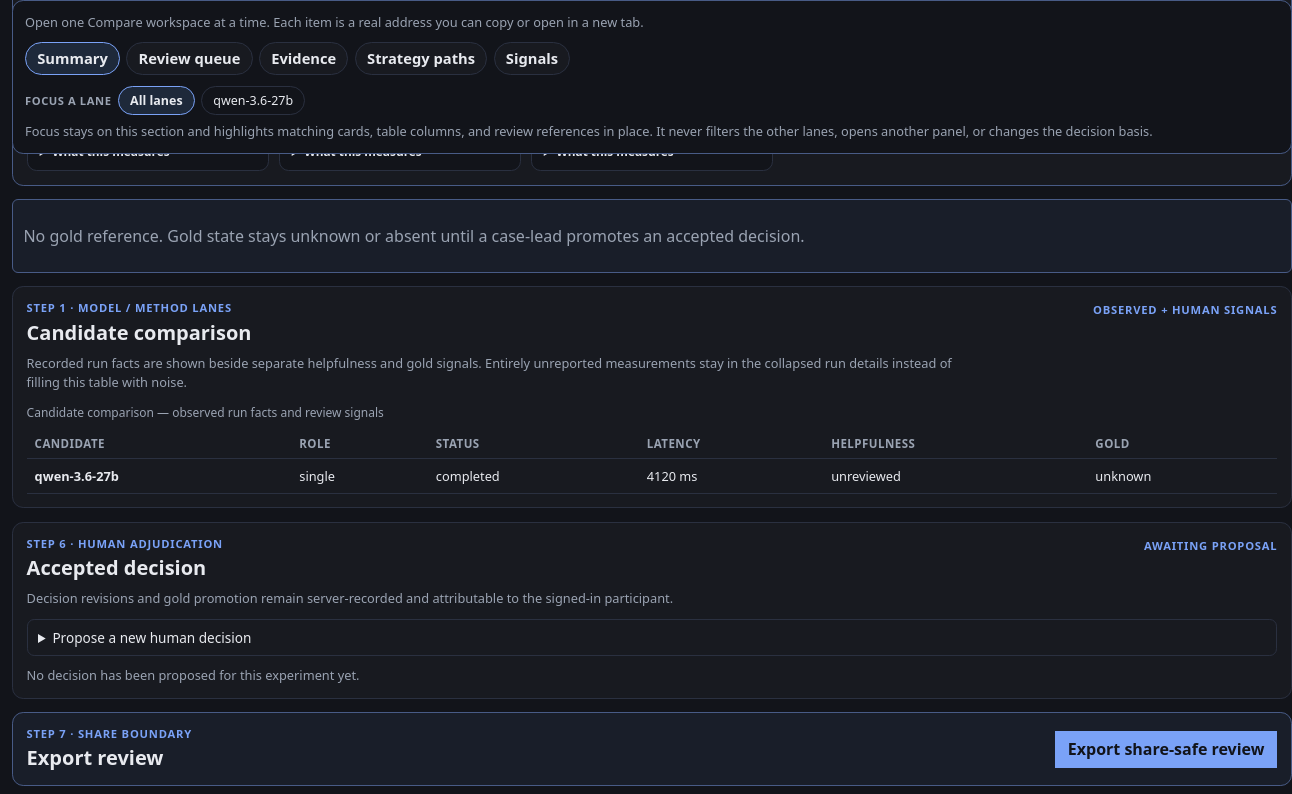
Test: experiment lab › surfaces share-safe export failures
The image size is (1292, 794).
(page scrolled)
Click the button "Export share-safe review" at (1166, 749), box top-left (1055, 731), bottom-right (1277, 768)
(page scrolled)
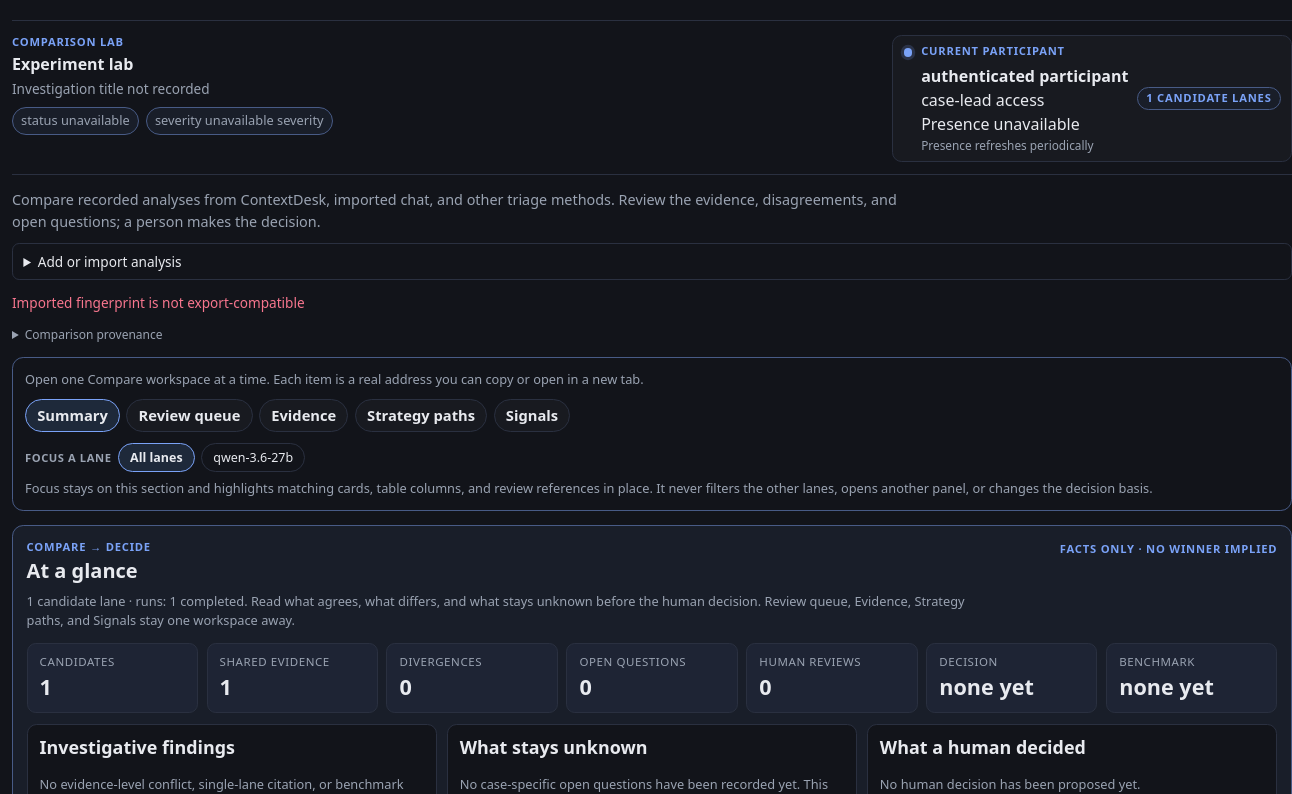
Check: the text "Imported fingerprint is not export-compatible" is shown, box top-left (12, 293), bottom-right (305, 312)
